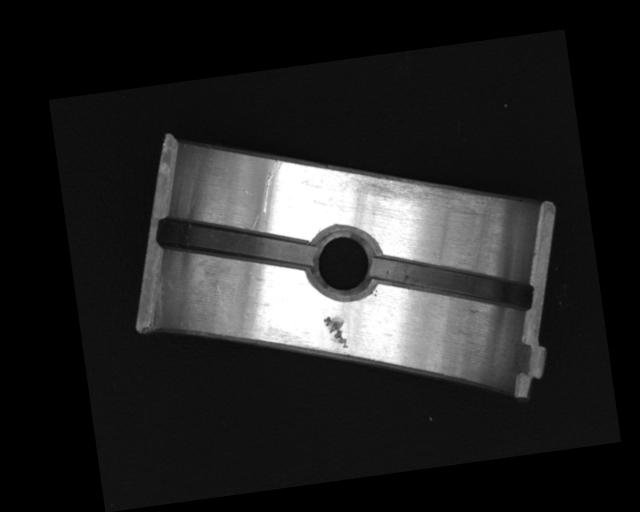bruise: (323, 313, 349, 352)
gap: (370, 235, 532, 331), (154, 200, 316, 286)
hole: (301, 224, 384, 303)
nick: (257, 158, 289, 213)
scratch: (297, 142, 500, 246)
